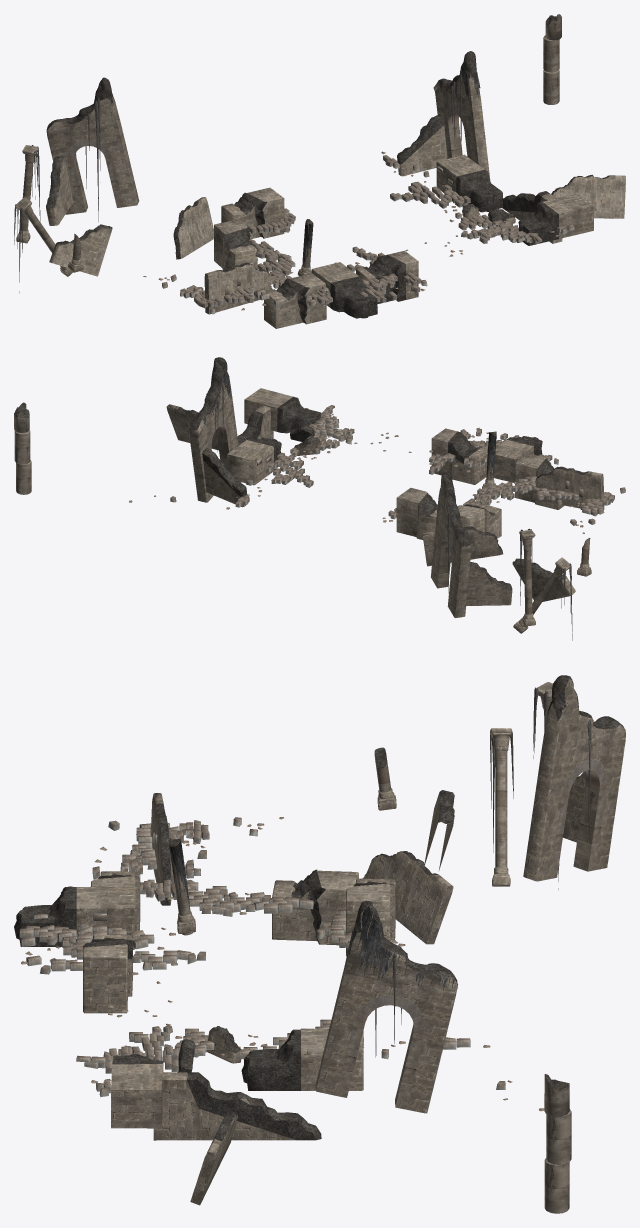
3 renders of one model, top to bottom at view 1: azimuth 30°, elevation 25°; view 2: azimuth 150°, elevation 25°; view 3: azimuth 270°, elevation 25°, orthographic. The views are drawn at different scales.
Parts seen in each view (by area): view 1: Material_#29, Material_#28, Material_#33, Material_#32, Material_#106; view 2: Material_#29, Material_#33, Material_#28, Material_#32, Material_#106; view 3: Material_#29, Material_#33, Material_#32, Material_#28, Material_#106.
Boxes of the visible parts, x1,y1,x2,y2 form: Material_#29: (15, 71, 625, 328); Material_#28: (14, 14, 610, 323); Material_#33: (66, 105, 574, 314); Material_#32: (21, 14, 561, 268); Material_#106: (302, 52, 480, 265); Material_#29: (166, 374, 604, 633); Material_#33: (129, 405, 625, 567); Material_#28: (14, 357, 590, 640); Material_#32: (14, 413, 589, 621); Material_#106: (188, 358, 496, 477); Material_#29: (18, 678, 625, 1205); Material_#33: (19, 759, 606, 1111); Material_#32: (169, 709, 606, 1213); Material_#28: (14, 675, 623, 1141); Material_#106: (169, 839, 457, 995).
Size of the model in its own units: 124 by 36.43 by 76.26.
